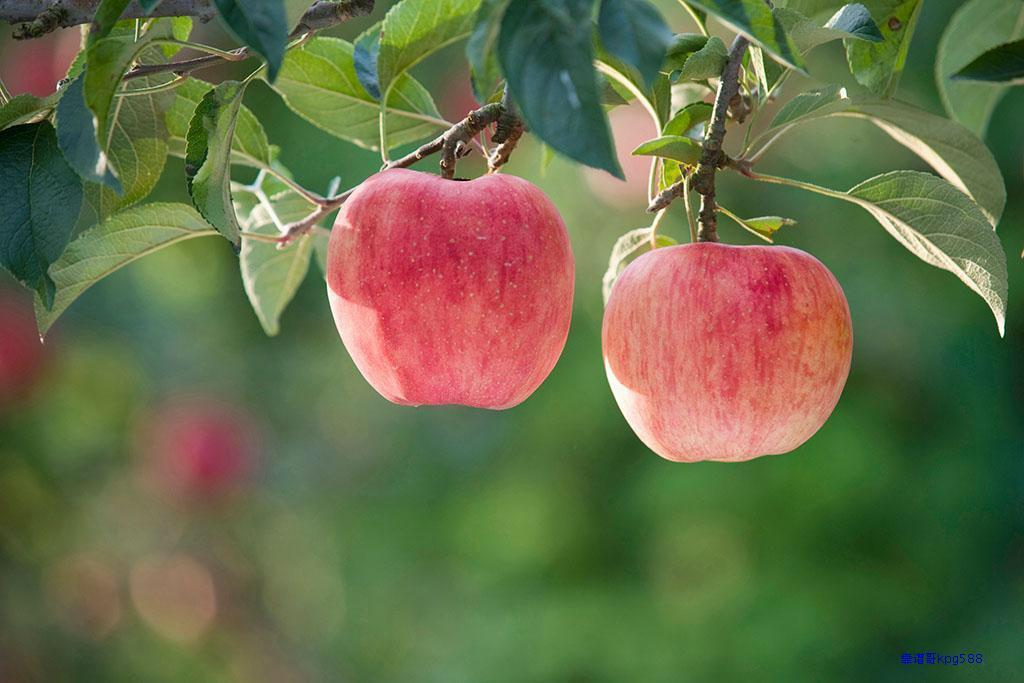apple: (318, 166, 572, 413), (596, 238, 852, 469)
